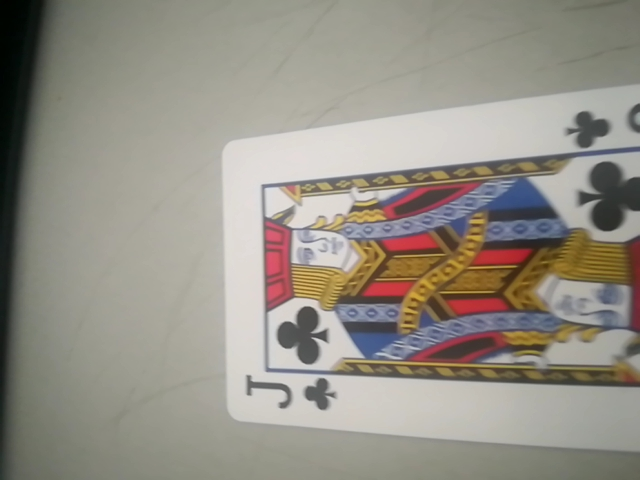mh j: (217, 82, 640, 457)
